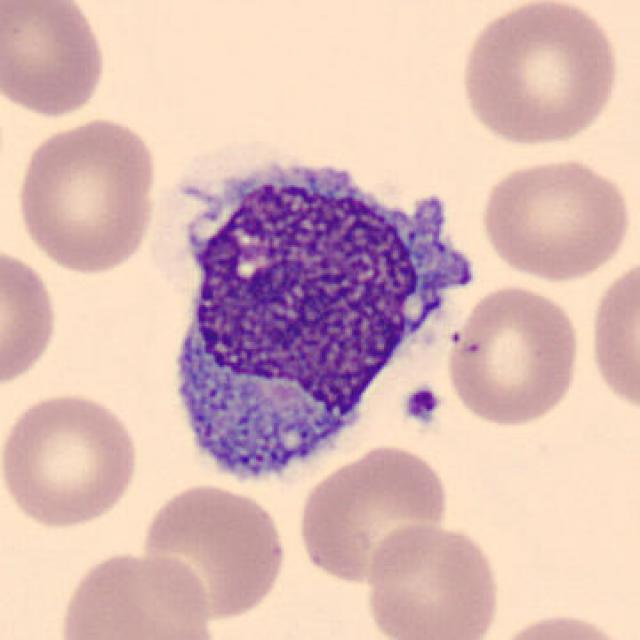Monocyte: (151, 134, 484, 494)
Platelets: (400, 382, 444, 428)
RBC: (453, 0, 624, 150), (12, 113, 162, 275), (295, 441, 453, 587), (137, 480, 290, 622), (474, 152, 634, 284), (443, 282, 585, 429), (0, 388, 144, 532), (363, 520, 505, 640), (53, 546, 218, 640), (0, 0, 112, 122), (0, 241, 62, 395), (586, 252, 640, 419), (482, 608, 636, 640)
